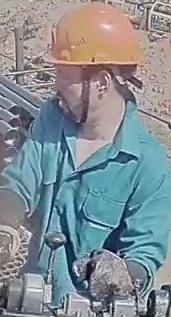gloves: (73, 248, 148, 303)
helmet: (43, 2, 144, 76)
vest: (0, 96, 170, 306)
